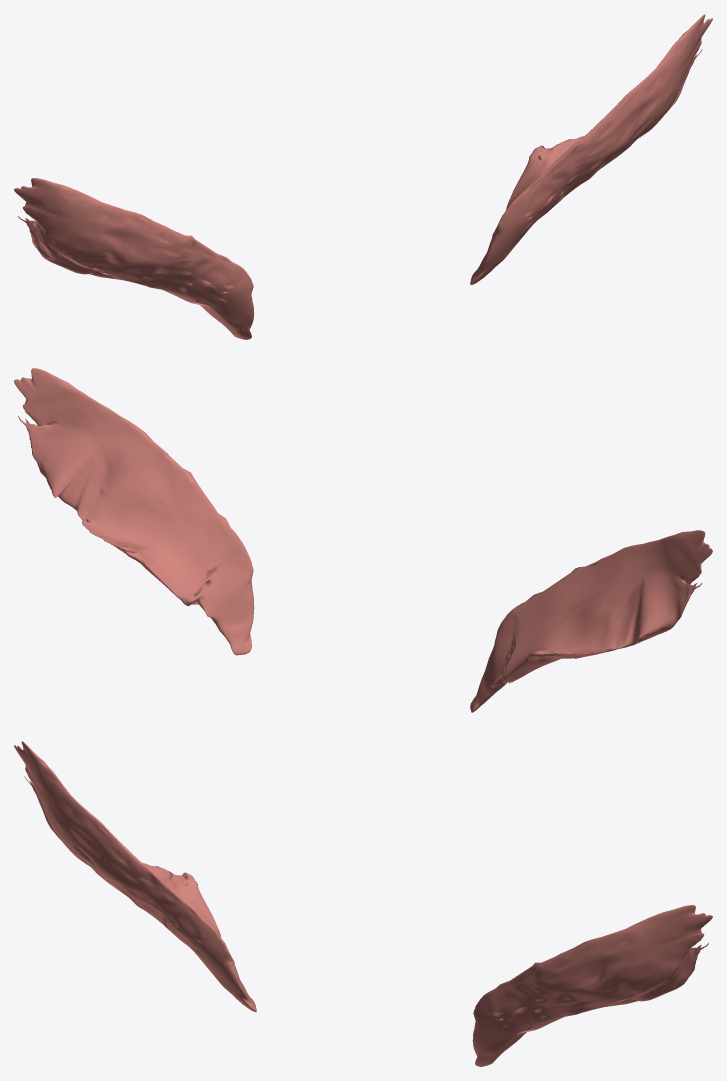
The model's file is corrugator.glb.
3 renders of one model, top to bottom at view 1: azimuth 30°, elevation 25°; view 2: azimuth 150°, elevation 25°; view 3: azimuth 330°, elevation 25°, orthographic.
Visible parts, largest first — view 1: corrugator_R, corrugator_L; view 2: corrugator_L, corrugator_R; view 3: corrugator_L, corrugator_R.
Boxes of the visible parts, <box> form: corrugator_R: <box>14,178,254,339</box>; corrugator_L: <box>470,14,712,284</box>; corrugator_L: <box>14,368,254,655</box>; corrugator_R: <box>470,530,712,712</box>; corrugator_L: <box>472,905,712,1066</box>; corrugator_R: <box>14,741,256,1011</box>.
Bounding box in the file's own units: 0.0637 × 0.0195 × 0.00833.
